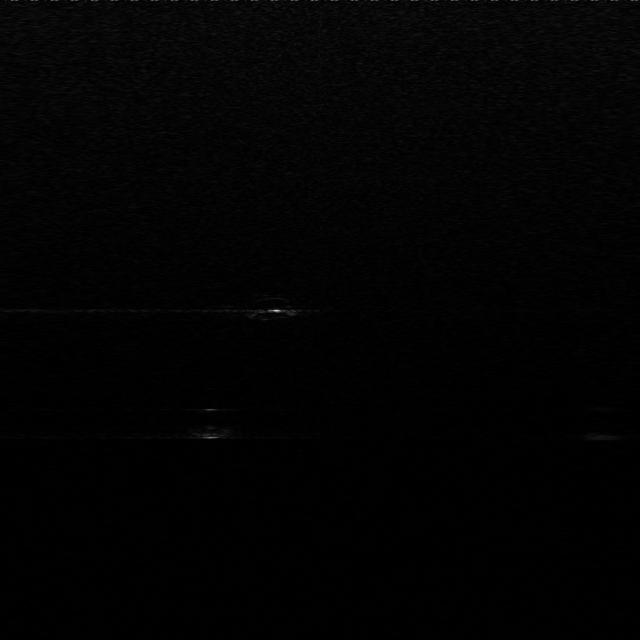ball: (183, 401, 239, 442)
tyre: (238, 290, 303, 326)
